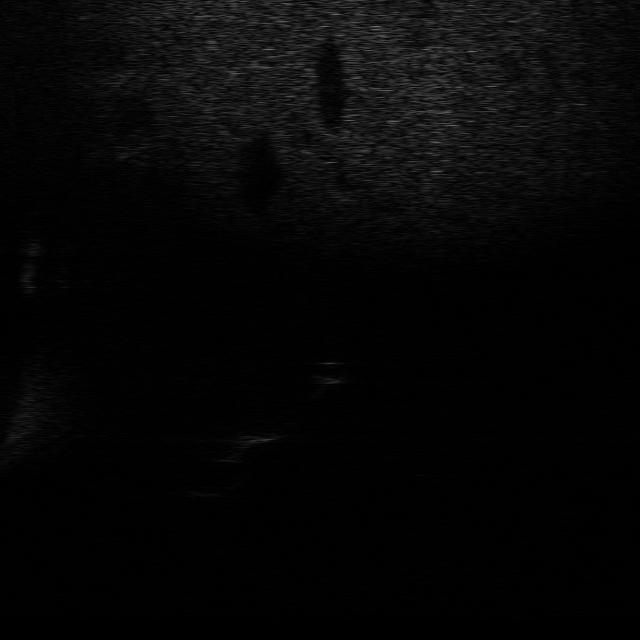ball: (296, 352, 358, 387)
square cage: (209, 424, 290, 462)
tyre: (171, 458, 254, 503)
